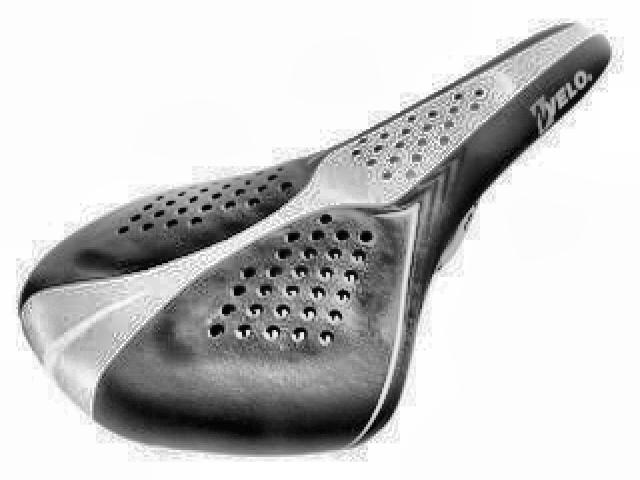saddle: (19, 19, 615, 448)
